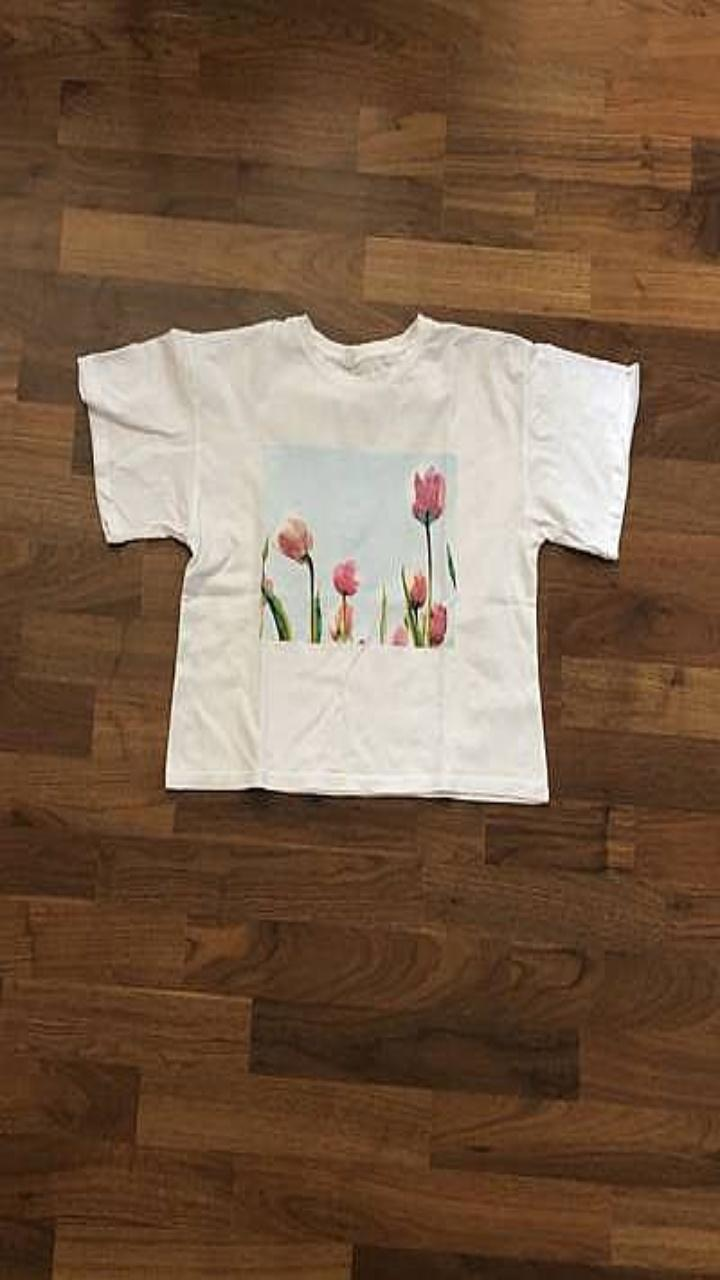T-Shirt: (77, 313, 638, 802)
